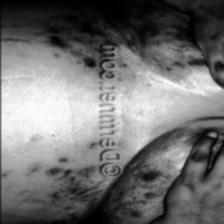Non-Cancerous Skin Condition: (25, 0, 104, 71), (121, 2, 194, 74), (48, 175, 146, 224)
